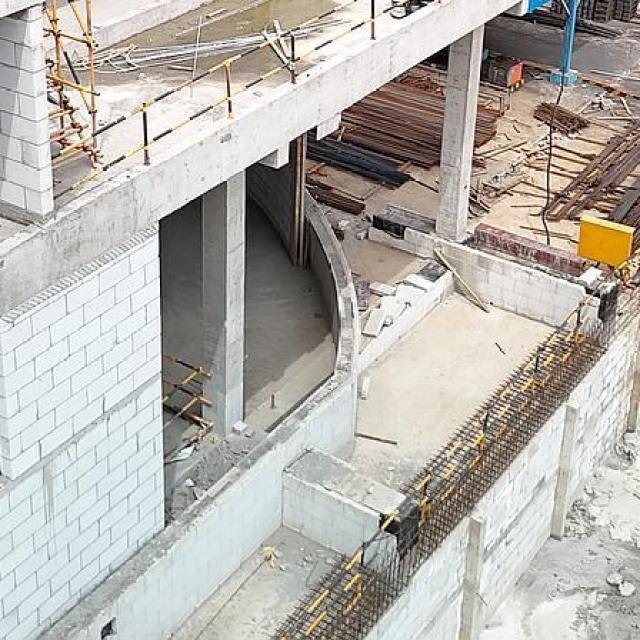edge_guardrail: (280, 245, 640, 640), (50, 0, 396, 201), (161, 352, 213, 462)
